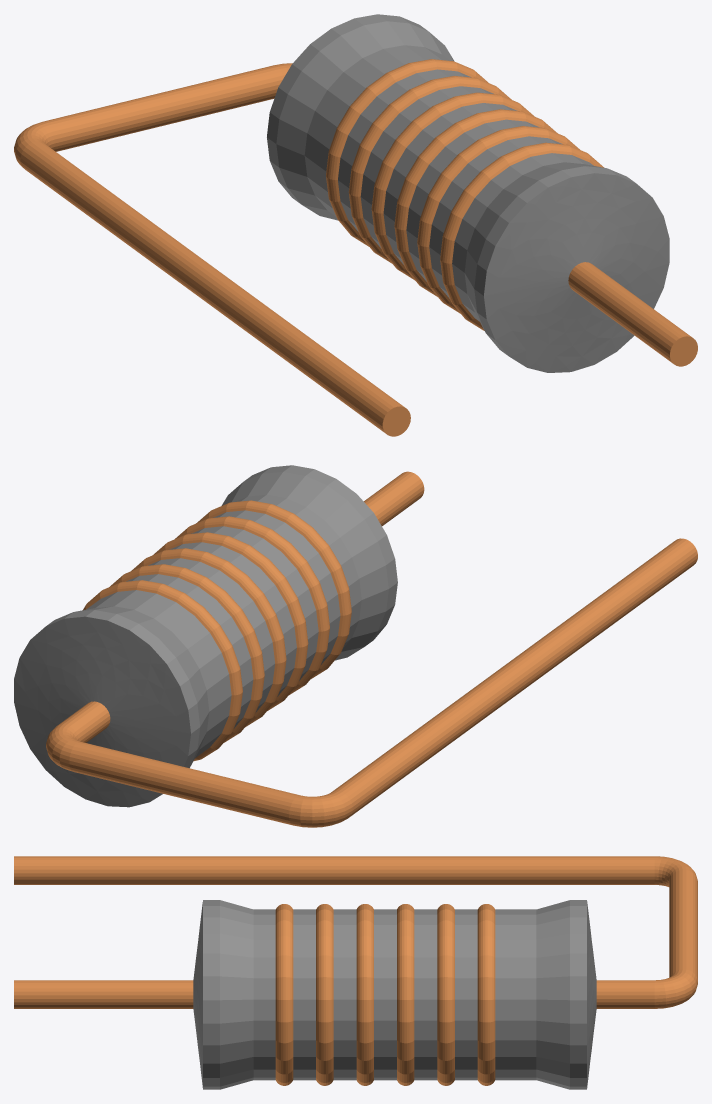
Rendered from L_Axial_L7.0mm_D3.3mm_P5.08mm_Vertical_Fastron_MICC.glb.
The picture shows the model from 3 angles, top to bottom: view 1: azimuth 30°, elevation 25°; view 2: azimuth 150°, elevation 25°; view 3: azimuth 270°, elevation 25°; orthographic projection. The views are drawn at different scales.
Visible parts, largest first — view 1: Shape_IndexedFaceSet.002, Shape_IndexedFaceSet.025, Shape_IndexedFaceSet.018, Shape_IndexedFaceSet.023, Shape_IndexedFaceSet.017, Shape_IndexedFaceSet.001, Shape_IndexedFaceSet.006, Shape_IndexedFaceSet.008, Shape_IndexedFaceSet.012, Shape_IndexedFaceSet.016, Shape_IndexedFaceSet.014, Shape_IndexedFaceSet.010 (+12 smaller); view 2: Shape_IndexedFaceSet.020, Shape_IndexedFaceSet.025, Shape_IndexedFaceSet.023, Shape_IndexedFaceSet.004, Shape_IndexedFaceSet.017, Shape_IndexedFaceSet.016, Shape_IndexedFaceSet.012, Shape_IndexedFaceSet.006, Shape_IndexedFaceSet.010, Shape_IndexedFaceSet.014, Shape_IndexedFaceSet.008, Shape_IndexedFaceSet.003 (+12 smaller); view 3: Shape_IndexedFaceSet.025, Shape_IndexedFaceSet.017, Shape_IndexedFaceSet.004, Shape_IndexedFaceSet.018, Shape_IndexedFaceSet.001, Shape_IndexedFaceSet.009, Shape_IndexedFaceSet.013, Shape_IndexedFaceSet.007, Shape_IndexedFaceSet.011, Shape_IndexedFaceSet.015, Shape_IndexedFaceSet.005, Shape_IndexedFaceSet.006 (+13 smaller).
Boxes of the visible parts, left/top/right/bottom form: Shape_IndexedFaceSet.002: left=484, top=173, right=669, bottom=372; Shape_IndexedFaceSet.025: left=20, top=141, right=404, bottom=433; Shape_IndexedFaceSet.018: left=276, top=21, right=454, bottom=220; Shape_IndexedFaceSet.023: left=44, top=65, right=283, bottom=151; Shape_IndexedFaceSet.017: left=304, top=45, right=450, bottom=216; Shape_IndexedFaceSet.001: left=568, top=262, right=692, bottom=363; Shape_IndexedFaceSet.006: left=440, top=142, right=603, bottom=330; Shape_IndexedFaceSet.008: left=417, top=126, right=579, bottom=313; Shape_IndexedFaceSet.012: left=371, top=92, right=534, bottom=280; Shape_IndexedFaceSet.016: left=326, top=59, right=488, bottom=246; Shape_IndexedFaceSet.014: left=348, top=75, right=511, bottom=263; Shape_IndexedFaceSet.010: left=394, top=109, right=557, bottom=296; Shape_IndexedFaceSet.020: left=14, top=616, right=190, bottom=807; Shape_IndexedFaceSet.025: left=331, top=538, right=697, bottom=816; Shape_IndexedFaceSet.023: left=69, top=741, right=299, bottom=824; Shape_IndexedFaceSet.004: left=221, top=472, right=388, bottom=660; Shape_IndexedFaceSet.017: left=86, top=590, right=231, bottom=757; Shape_IndexedFaceSet.016: left=83, top=580, right=242, bottom=761; Shape_IndexedFaceSet.012: left=131, top=548, right=286, bottom=726; Shape_IndexedFaceSet.006: left=196, top=500, right=351, bottom=679; Shape_IndexedFaceSet.010: left=153, top=532, right=308, bottom=710; Shape_IndexedFaceSet.014: left=110, top=564, right=264, bottom=742; Shape_IndexedFaceSet.008: left=175, top=516, right=329, bottom=694; Shape_IndexedFaceSet.003: left=244, top=465, right=397, bottom=646; Shape_IndexedFaceSet.025: left=14, top=856, right=654, bottom=884; Shape_IndexedFaceSet.017: left=495, top=909, right=536, bottom=1080; Shape_IndexedFaceSet.004: left=220, top=900, right=253, bottom=1089; Shape_IndexedFaceSet.018: left=536, top=900, right=569, bottom=1089; Shape_IndexedFaceSet.001: left=14, top=980, right=193, bottom=1008; Shape_IndexedFaceSet.009: left=333, top=909, right=356, bottom=1080; Shape_IndexedFaceSet.013: left=414, top=909, right=437, bottom=1080; Shape_IndexedFaceSet.007: left=293, top=909, right=315, bottom=1080; Shape_IndexedFaceSet.011: left=374, top=909, right=396, bottom=1080; Shape_IndexedFaceSet.015: left=455, top=909, right=477, bottom=1080; Shape_IndexedFaceSet.005: left=253, top=909, right=275, bottom=1080; Shape_IndexedFaceSet.006: left=275, top=904, right=293, bottom=1085.
Bounding box in the file's own units: 2.74 × 1.3 × 4.66.
